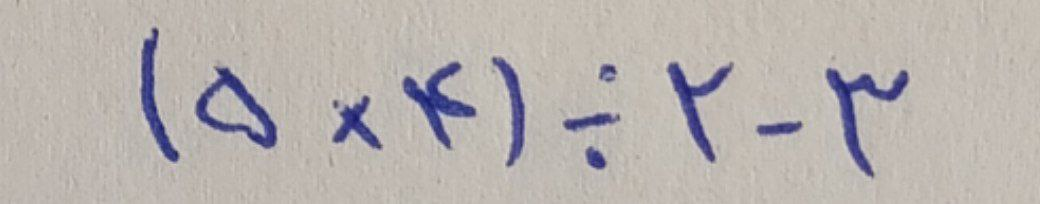character: (817, 62, 908, 185), (193, 56, 282, 152), (661, 57, 739, 166), (399, 54, 479, 155), (557, 56, 625, 172), (136, 20, 183, 167), (486, 49, 532, 170), (326, 88, 388, 156), (754, 115, 808, 138)
